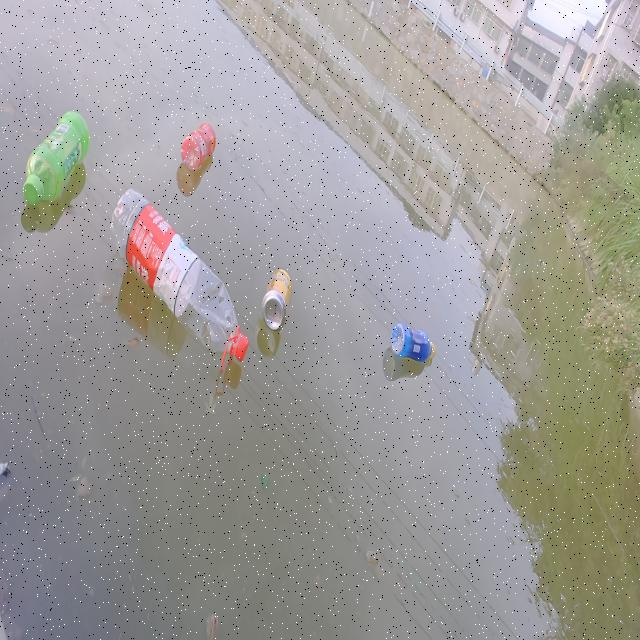Bottle: (108, 184, 250, 372), (18, 103, 91, 209), (178, 113, 222, 173), (389, 314, 438, 362)
Can: (260, 262, 295, 336)
